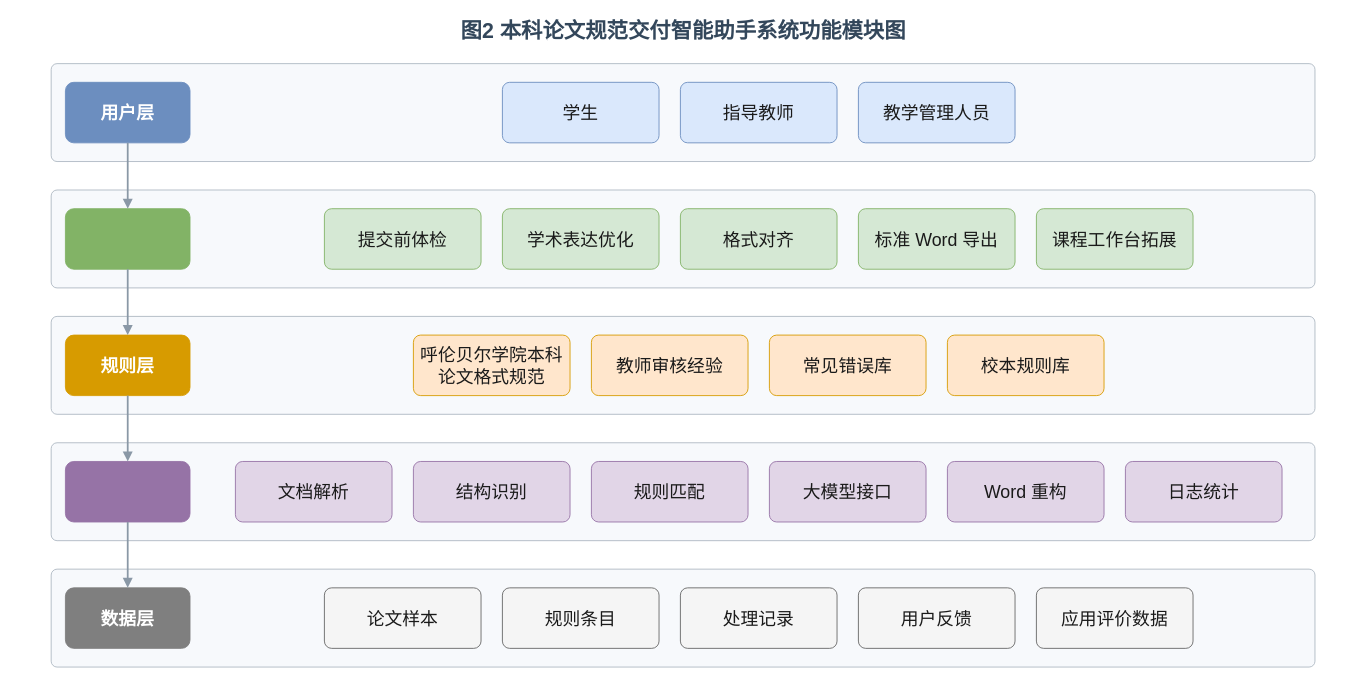
The diagram is 1365 pixels wide and 683 high, and some of its shapes have lost their labels. Here are the shapes that lost their labels. From the top down, the box of each, then its label:
(65, 208, 190, 269): 应用层
(65, 461, 190, 522): 技术层
